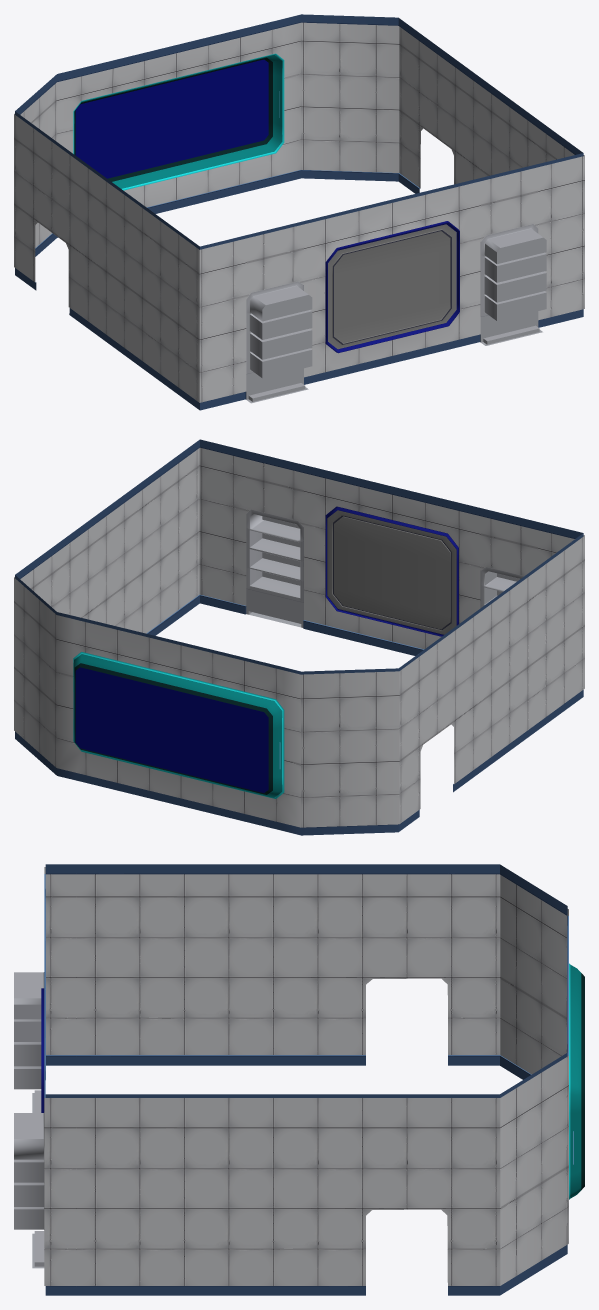
Rendered from ML_hall.fbx.
The picture shows the model from 3 angles, top to bottom: view 1: azimuth 30°, elevation 25°; view 2: azimuth 150°, elevation 25°; view 3: azimuth 270°, elevation 25°; orthographic projection. The views are drawn at different scales.
Parts seen in each view (by area): view 1: Object015; view 2: Object015; view 3: Object015.
Boxes of the visible parts, bbox=[...] form: Object015: bbox=[14, 14, 584, 410]; Object015: bbox=[14, 439, 584, 835]; Object015: bbox=[14, 864, 584, 1295].
Bounding box in the file's own units: 1500 × 610 × 1567.
